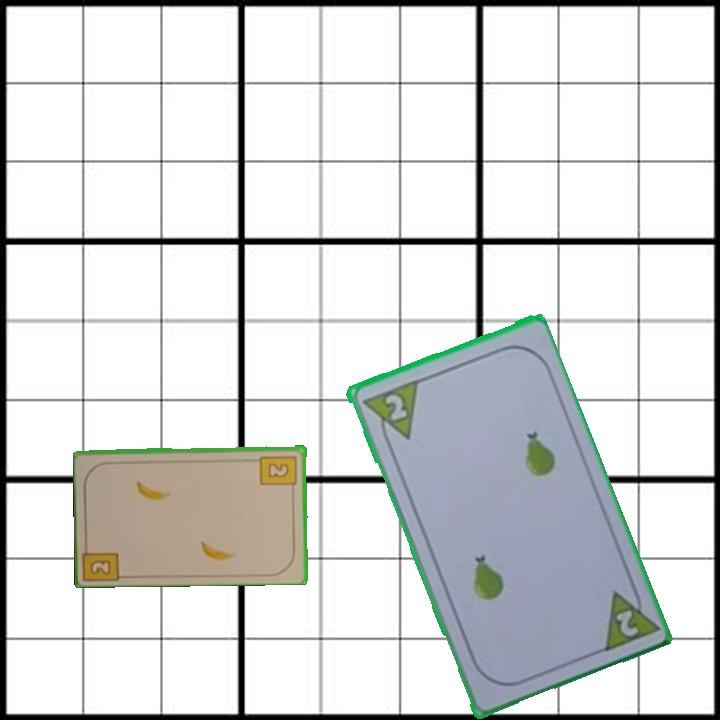2b: (82, 538, 124, 582), (257, 452, 300, 494)
2p: (597, 579, 660, 655), (357, 376, 421, 450)
